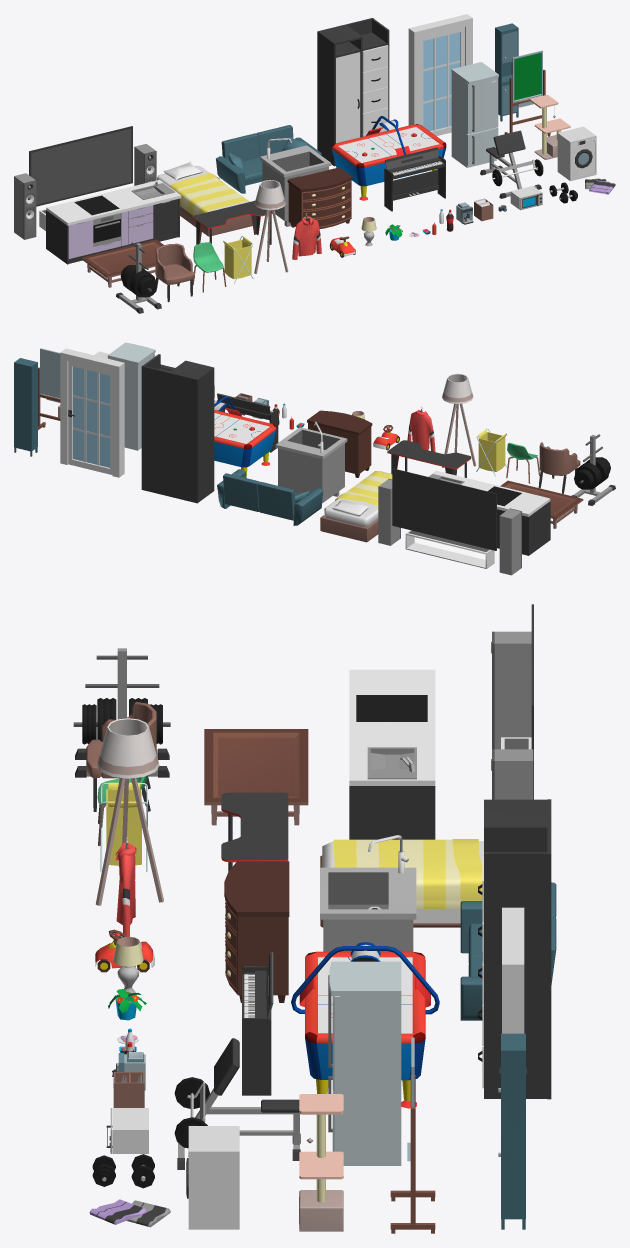
Rendered from Furniture.glb.
3 views of the same model, one above another, from view 1: azimuth 30°, elevation 25°; view 2: azimuth 150°, elevation 25°; view 3: azimuth 270°, elevation 25° (orthographic). The views are drawn at different scales.
Visible parts, largest first — view 1: GFLobby, GFCashOffice2, GFCashOffice1, GFFinanceWaiting, MFFemaleToilet, door_001, GFFinanceMeetingRoom, GFFinanceRoom7, GFHeadRoom, GFOffice, door_frame_001, MFSingleToilet (+14 smaller); view 2: GFCashOffice2, GFLobby, door_001, MFSingleToilet, GFHeadRoom, MFFemaleToilet, door_frame_001, GFFinanceMeetingRoom, GFCashOffice1, GFFinanceWaiting, GFFinanceRoom7, closet_002 (+11 smaller); view 3: GFLobby, GFCashOffice1, GFFinanceWaiting, MFFemaleToilet, MFSingleToilet, GFFinanceMeetingRoom, GFFinanceRoom7, GF24ATM, GFCashOffice2, washing_machine_001, Light, closet_002 (+16 smaller).
Part boxes in pixels (box(x1,y1,x2,y2)): GFLobby: box(317, 18, 389, 166); GFCashOffice2: box(14, 126, 156, 239); GFCashOffice1: box(46, 179, 181, 264); GFFinanceWaiting: box(451, 62, 498, 167); MFFemaleToilet: box(331, 116, 446, 200); door_001: box(421, 26, 464, 136); GFFinanceMeetingRoom: box(157, 161, 252, 236); GFFinanceRoom7: box(287, 167, 352, 228); GFHeadRoom: box(216, 125, 321, 193); GFOffice: box(384, 147, 445, 211); door_frame_001: box(408, 14, 472, 125); MFSingleToilet: box(260, 138, 331, 226); GFCashOffice2: box(378, 468, 521, 575); GFLobby: box(141, 354, 214, 503); door_001: box(68, 361, 112, 474); MFSingleToilet: box(275, 421, 347, 509); GFHeadRoom: box(217, 469, 323, 525); MFFemaleToilet: box(214, 396, 276, 478); door_frame_001: box(60, 348, 124, 477); GFFinanceMeetingRoom: box(320, 471, 392, 542); GFCashOffice1: box(428, 470, 550, 555); GFFinanceWaiting: box(107, 342, 155, 450); GFFinanceRoom7: box(307, 410, 372, 477); closet_002: box(14, 358, 37, 456); GFLobby: box(478, 799, 551, 1099); GFCashOffice1: box(349, 669, 435, 839); GFFinanceWaiting: box(328, 961, 401, 1165); MFFemaleToilet: box(291, 942, 439, 1108); MFSingleToilet: box(320, 835, 416, 951); GFFinanceMeetingRoom: box(320, 839, 483, 927); GFFinanceRoom7: box(224, 861, 289, 1002); GF24ATM: box(204, 729, 308, 825); GFCashOffice2: box(491, 604, 533, 799); washing_machine_001: box(186, 1126, 239, 1229); Light: box(95, 718, 163, 905); closet_002: box(498, 1033, 525, 1229).
Bounding box in the file's own units: 11.48 × 2.94 × 4.79.
1 material, 1 textured.
